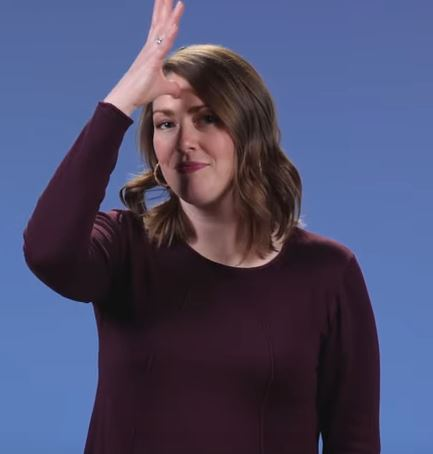dad: (105, 1, 247, 136)
